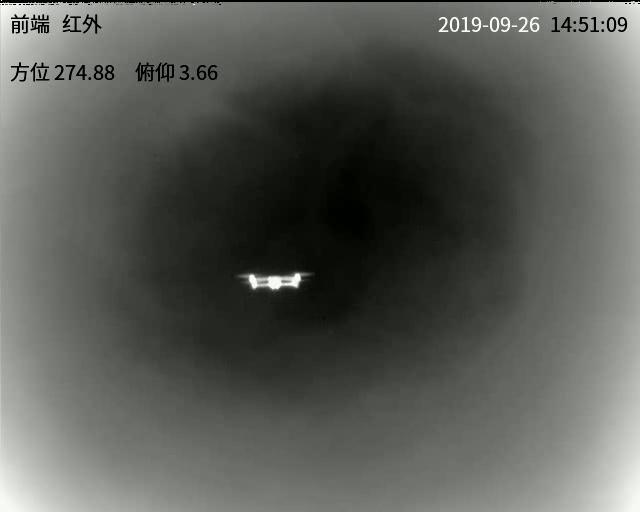DRONE: (241, 272, 309, 291)
